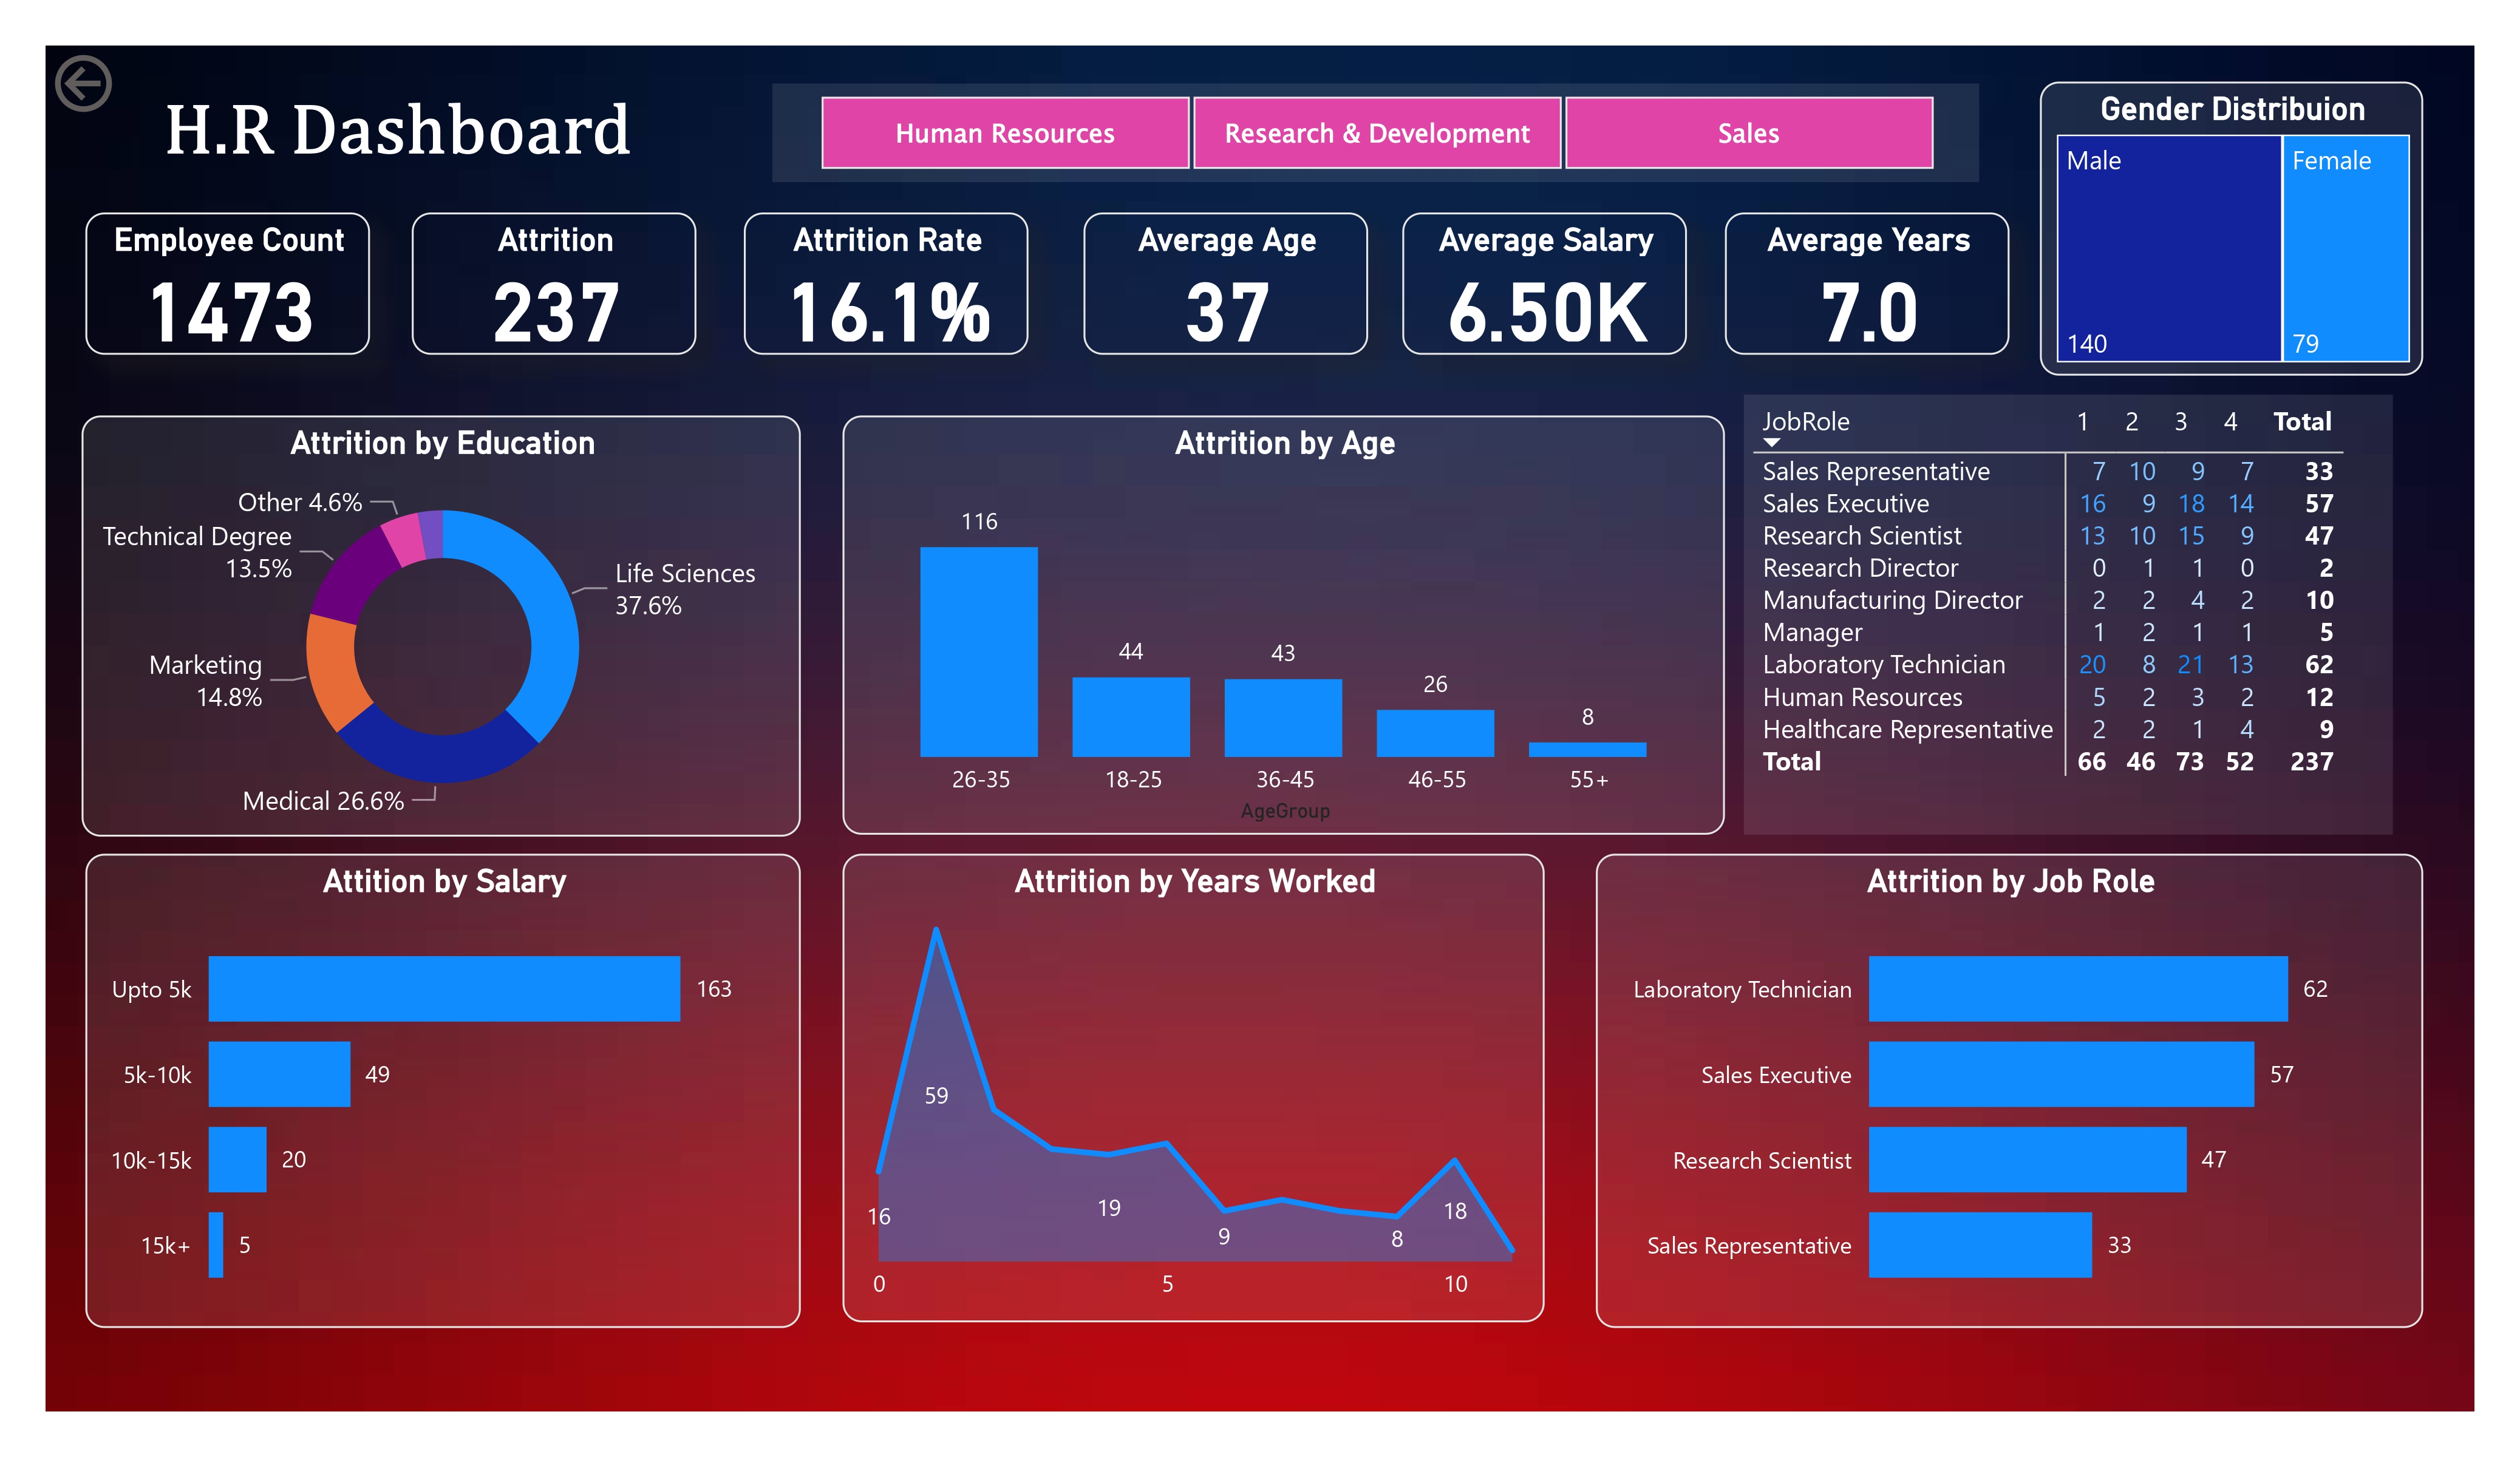

Layout of this report page (visuals, bound fields, positions):
{"tool":"powerbi","page":{"name":"Page 1","canvas":[1280,720],"ordinal":0},"visuals":[{"type":"card","title":"Employee Count","fields":{"Values":["CountNonNull(HR_Analytics.EmpID)"]},"box":[20.8,87.6,150,75.7],"z":0},{"type":"actionButton","box":[0,0,42.9,40],"z":1000},{"type":"card","title":"Attrition","fields":{"Values":["Sum(HR_Analytics.AttritionValues)"]},"box":[193,87.6,150,75.7],"z":2000},{"type":"card","title":"Attrition Rate","fields":{"Values":["HR_Analytics.Attrition_Rate"]},"box":[368,87.6,150,75.7],"z":3000},{"type":"card","title":"Average Age","fields":{"Values":["Avg(HR_Analytics.Age)"]},"box":[547.2,87.6,150,75.7],"z":4000},{"type":"card","title":"Average Salary","fields":{"Values":["Avg(HR_Analytics.MonthlyIncome)"]},"box":[715.2,87.6,150,75.7],"z":5000},{"type":"card","title":"Average Years","fields":{"Values":["Avg(HR_Analytics.YearsAtCompany)"]},"box":[885,88.2,150,75.1],"z":6000},{"type":"donutChart","title":"Attrition by Education","fields":{"Category":["HR_Analytics.EducationField"],"Y":["Sum(HR_Analytics.AttritionValues)"]},"box":[19.3,194.5,378.7,222.7],"z":7000},{"type":"barChart","title":"Attition by Salary","fields":{"Y":["Sum(HR_Analytics.AttritionValues)"],"Category":["HR_Analytics.SalarySlab"]},"box":[20.8,426.2,377.2,249.5],"z":8000},{"type":"pivotTable","fields":{"Rows":["HR_Analytics.JobRole"],"Columns":["HR_Analytics.JobSatisfaction"],"Values":["Sum(HR_Analytics.AttritionValues)"]},"box":[895.4,184.1,341.5,231.6],"z":9000},{"type":"columnChart","title":"Attrition by Age","fields":{"Category":["HR_Analytics.AgeGroup"],"Y":["Sum(HR_Analytics.AttritionValues)"]},"box":[420.2,194.5,464.8,221.3],"z":10000},{"type":"barChart","title":"Attrition by Job Role","fields":{"Category":["HR_Analytics.JobRole"],"Y":["Sum(HR_Analytics.AttritionValues)"]},"box":[816.7,426.2,436.6,249.5],"z":11000},{"type":"stackedAreaChart","title":"Attrition by Years Worked","fields":{"Category":["HR_Analytics.YearsAtCompany"],"Y":["Sum(HR_Analytics.AttritionValues)"]},"box":[420.2,426.2,369.7,246.5],"z":12000},{"type":"treemap","title":"Gender Distribuion","fields":{"Values":["Sum(HR_Analytics.AttritionValues)"],"Details":["HR_Analytics.Gender"]},"box":[1051.3,19.3,201.9,154.4],"z":13000},{"type":"textbox","box":[56.7,19.8,297.6,68],"z":13002},{"type":"slicer","fields":{"Values":["HR_Analytics.Department"]},"box":[382.7,19.8,636.4,52.4],"z":13003}]}

Visuals, with their boxes on the page's 1280x720 design canvas (x1, y1, x2, y2). These are canvas units, not pixel positions in the 2520x1457 screenshot, which may show the page scaled, cropped or inside an application window:
"Employee Count" card: detection(21, 88, 171, 163)
actionButton: detection(0, 0, 43, 40)
"Attrition" card: detection(193, 88, 343, 163)
"Attrition Rate" card: detection(368, 88, 518, 163)
"Average Age" card: detection(547, 88, 697, 163)
"Average Salary" card: detection(715, 88, 865, 163)
"Average Years" card: detection(885, 88, 1035, 163)
"Attrition by Education" donutChart: detection(19, 194, 398, 417)
"Attition by Salary" barChart: detection(21, 426, 398, 676)
pivotTable - HR_Analytics.JobRole x HR_Analytics.JobSatisfaction: detection(895, 184, 1237, 416)
"Attrition by Age" columnChart: detection(420, 194, 885, 416)
"Attrition by Job Role" barChart: detection(817, 426, 1253, 676)
"Attrition by Years Worked" stackedAreaChart: detection(420, 426, 790, 673)
"Gender Distribuion" treemap: detection(1051, 19, 1253, 174)
textbox: detection(57, 20, 354, 88)
slicer - HR_Analytics.Department: detection(383, 20, 1019, 72)
